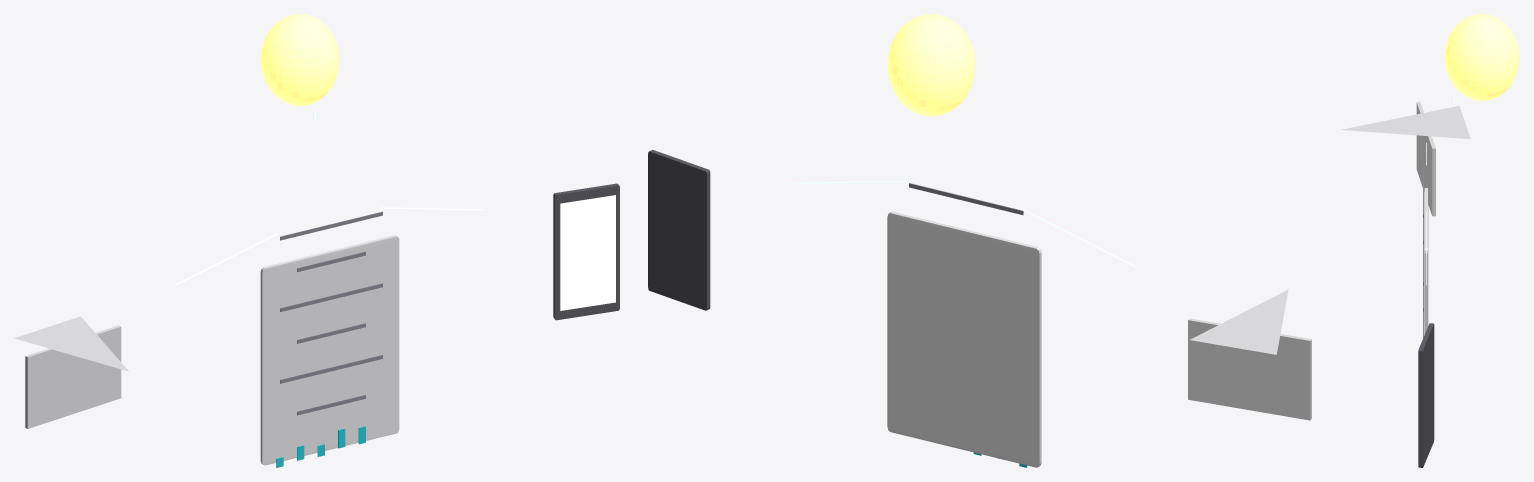
File: data-report.glb
3 views of the same model, side by side, from view 1: azimuth 30°, elevation 25°; view 2: azimuth 150°, elevation 25°; view 3: azimuth 270°, elevation 25° (orthographic). The views are drawn at different scales.
Visible parts, largest first — view 1: Report_Document, Email_Envelope, Phone_Screen, Notification_Bell, Phone, Envelope_Flap; view 2: Report_Document, Phone, Email_Envelope, Notification_Bell, Envelope_Flap; view 3: Notification_Bell, Envelope_Flap, Phone, Email_Envelope, Report_Document.
Boxes of the visible parts, x1,y1,x2,y2 form: Report_Document: (260,235,399,465); Email_Envelope: (25,325,121,428); Phone_Screen: (560,195,615,310); Notification_Bell: (261,14,339,105); Phone: (553,183,619,320); Envelope_Flap: (14,316,128,371); Report_Document: (887,211,1041,467); Phone: (648,149,710,310); Email_Envelope: (1188,318,1311,420); Notification_Bell: (888,14,975,116); Envelope_Flap: (1190,289,1288,354); Notification_Bell: (1445,14,1519,100); Envelope_Flap: (1341,105,1470,139); Phone: (1418,323,1434,467); Email_Envelope: (1416,101,1435,216); Report_Document: (1424,188,1428,334).
Size of the model in its own units: 3.47 by 2.32 by 0.9606.
